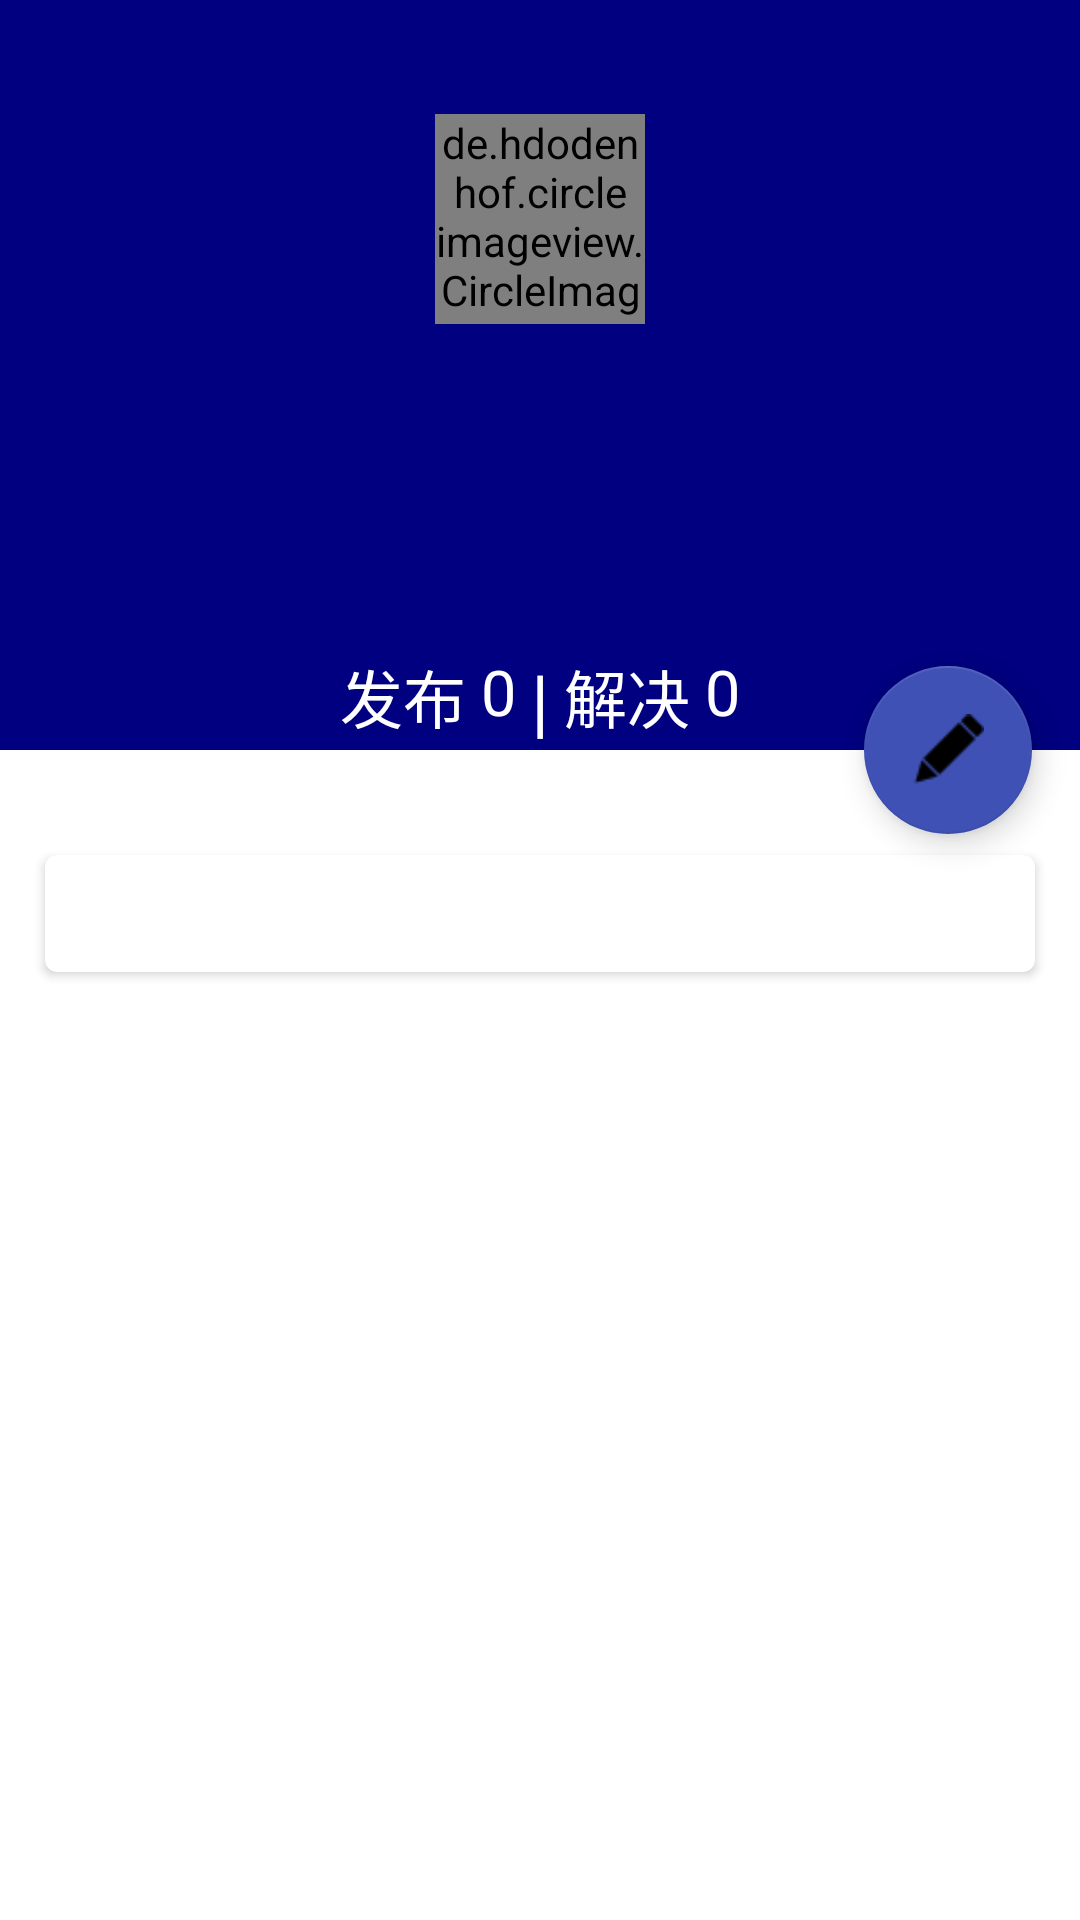

Where to tap for icons on this 1080*1920 app screen, as (x=x, y=y):
bianji: (x=948, y=750)
